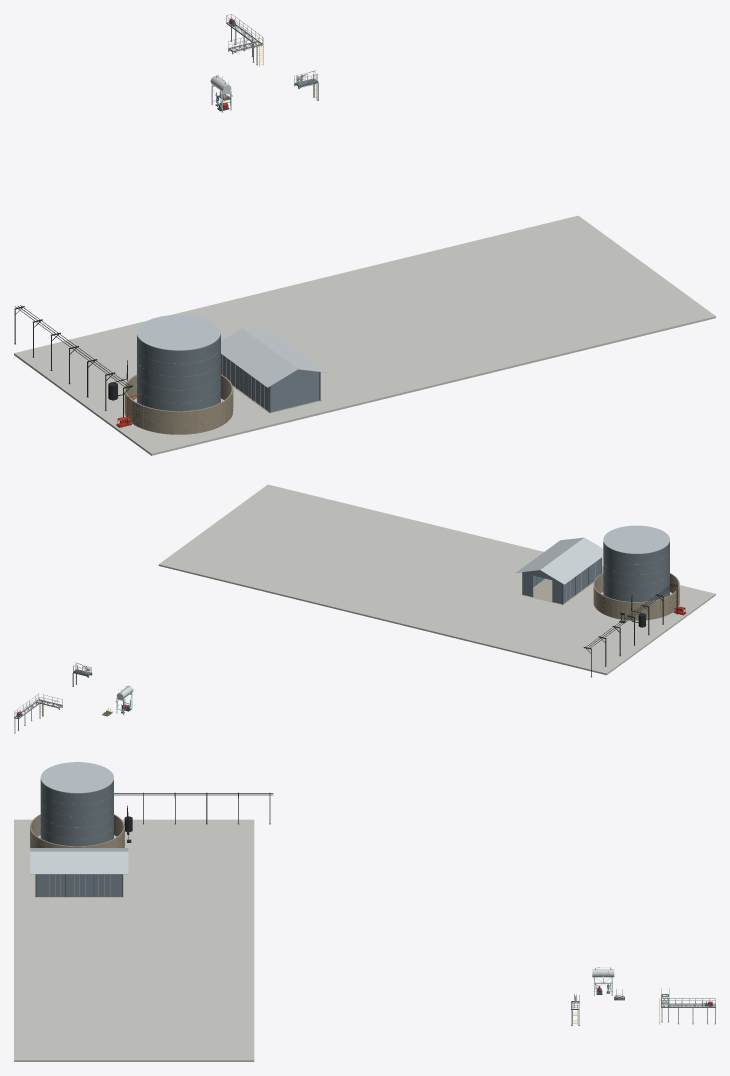
File: detalles-fbx-capturas.glb
3 views of the same model, one above another, from view 1: azimuth 30°, elevation 25°; view 2: azimuth 150°, elevation 25°; view 3: azimuth 270°, elevation 25° (orthographic). The views are drawn at different scales.
Parts seen in each view (by area): view 1: Superficie de enlace sector anexos, Tanque gigante de millo - Cuerpo provisional H12000, Bodega miscelaneos y quimicos especificos - Nave 3 - Cubiert, Millonario - Muro circular de bloques segun fotos, Bodega miscelaneos y quimicos especificos - Nave 3 - Cerrami, Tanque de millo - Cierre superior provisional, Millonario - Deposito negro ramales rojos y soportes aereos, Caldera principal - Puente exterior de malla descanso y apoy; view 2: Superficie de enlace sector anexos, Tanque gigante de millo - Cuerpo provisional H12000, Bodega miscelaneos y quimicos especificos - Nave 3 - Cubiert, Millonario - Muro circular de bloques segun fotos, Tanque de millo - Cierre superior provisional, Bodega miscelaneos y quimicos especificos - Nave 3 - Cerrami, Millonario - Deposito negro ramales rojos y soportes aereos, Caldera principal - Puente exterior de malla descanso y apoy, Bodega miscelaneos y quimicos especificos - Nave 3 - Piso; view 3: Superficie de enlace sector anexos, Tanque gigante de millo - Cuerpo provisional H12000, Bodega miscelaneos y quimicos especificos - Nave 3 - Cubiert, Bodega miscelaneos y quimicos especificos - Nave 3 - Cerrami, Tanque de millo - Cierre superior provisional, Millonario - Muro circular de bloques segun fotos, Millonario - Deposito negro ramales rojos y soportes aereos, Caldera principal - Puente exterior de malla descanso y apoy.
Boxes of the visible parts, left/top/right/bottom form: Superficie de enlace sector anexos: left=14, top=215, right=715, bottom=455; Tanque gigante de millo - Cuerpo provisional H12000: left=137, top=334, right=220, bottom=411; Bodega miscelaneos y quimicos especificos - Nave 3 - Cubiert: left=221, top=328, right=328, bottom=387; Millonario - Muro circular de bloques segun fotos: left=124, top=374, right=233, bottom=434; Bodega miscelaneos y quimicos especificos - Nave 3 - Cerrami: left=221, top=354, right=319, bottom=412; Tanque de millo - Cierre superior provisional: left=137, top=315, right=220, bottom=350; Millonario - Deposito negro ramales rojos y soportes aereos: left=14, top=305, right=132, bottom=416; Caldera principal - Puente exterior de malla descanso y apoy: left=226, top=14, right=262, bottom=65; Superficie de enlace sector anexos: left=158, top=484, right=715, bottom=675; Tanque gigante de millo - Cuerpo provisional H12000: left=603, top=541, right=669, bottom=601; Bodega miscelaneos y quimicos especificos - Nave 3 - Cubiert: left=516, top=537, right=603, bottom=584; Millonario - Muro circular de bloques segun fotos: left=593, top=573, right=679, bottom=620; Tanque de millo - Cierre superior provisional: left=603, top=525, right=669, bottom=553; Bodega miscelaneos y quimicos especificos - Nave 3 - Cerrami: left=523, top=558, right=601, bottom=604; Millonario - Deposito negro ramales rojos y soportes aereos: left=583, top=583, right=677, bottom=677; Caldera principal - Puente exterior de malla descanso y apoy: left=14, top=694, right=62, bottom=733; Bodega miscelaneos y quimicos especificos - Nave 3 - Piso: left=521, top=578, right=593, bottom=605; Superficie de enlace sector anexos: left=14, top=819, right=254, bottom=1061; Tanque gigante de millo - Cuerpo provisional H12000: left=40, top=779, right=113, bottom=846; Bodega miscelaneos y quimicos especificos - Nave 3 - Cubiert: left=30, top=848, right=128, bottom=874; Bodega miscelaneos y quimicos especificos - Nave 3 - Cerrami: left=36, top=874, right=121, bottom=896; Tanque de millo - Cierre superior provisional: left=40, top=762, right=113, bottom=793; Millonario - Muro circular de bloques segun fotos: left=30, top=814, right=124, bottom=847; Millonario - Deposito negro ramales rojos y soportes aereos: left=114, top=792, right=273, bottom=842; Caldera principal - Puente exterior de malla descanso y apoy: left=661, top=988, right=715, bottom=1024.
Bounding box in the file's own units: 90 × 12.38 × 111.
